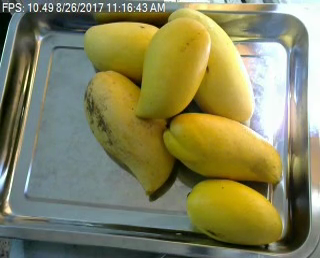Mango: (84, 70, 178, 195), (167, 7, 252, 119), (163, 113, 283, 183), (133, 17, 210, 117), (186, 179, 282, 244), (84, 21, 159, 80)
